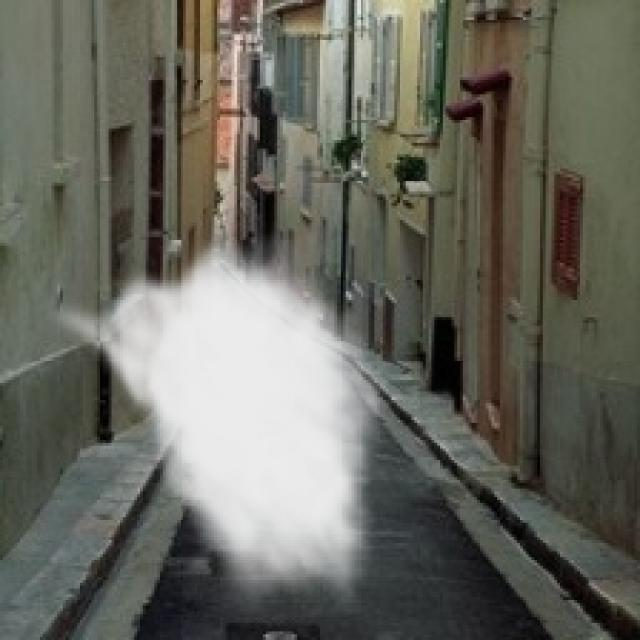smoke: (43, 226, 391, 617)
